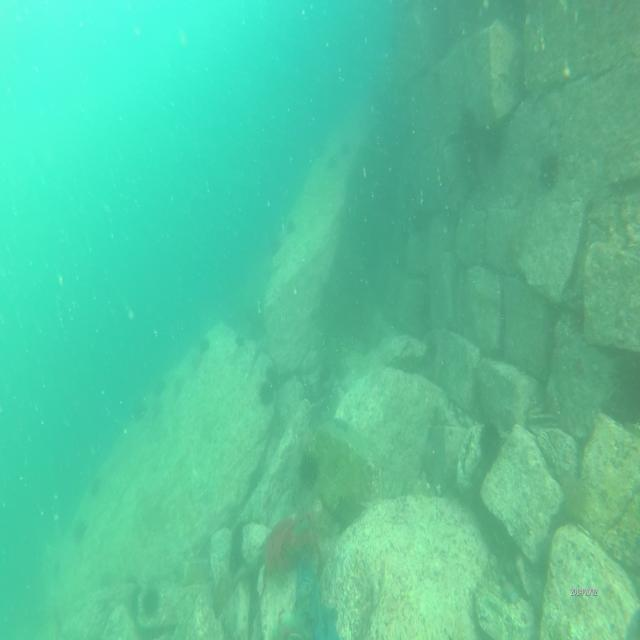echinus: (478, 418, 503, 464), (297, 454, 320, 493), (540, 151, 560, 190), (142, 587, 162, 619), (259, 379, 274, 408)
